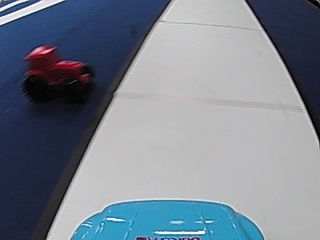tractor: (20, 42, 93, 103)
